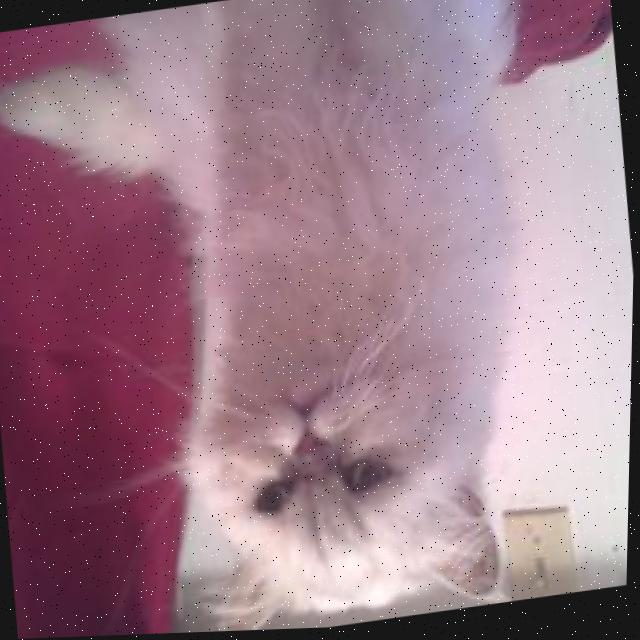Persian: (0, 0, 584, 640)
